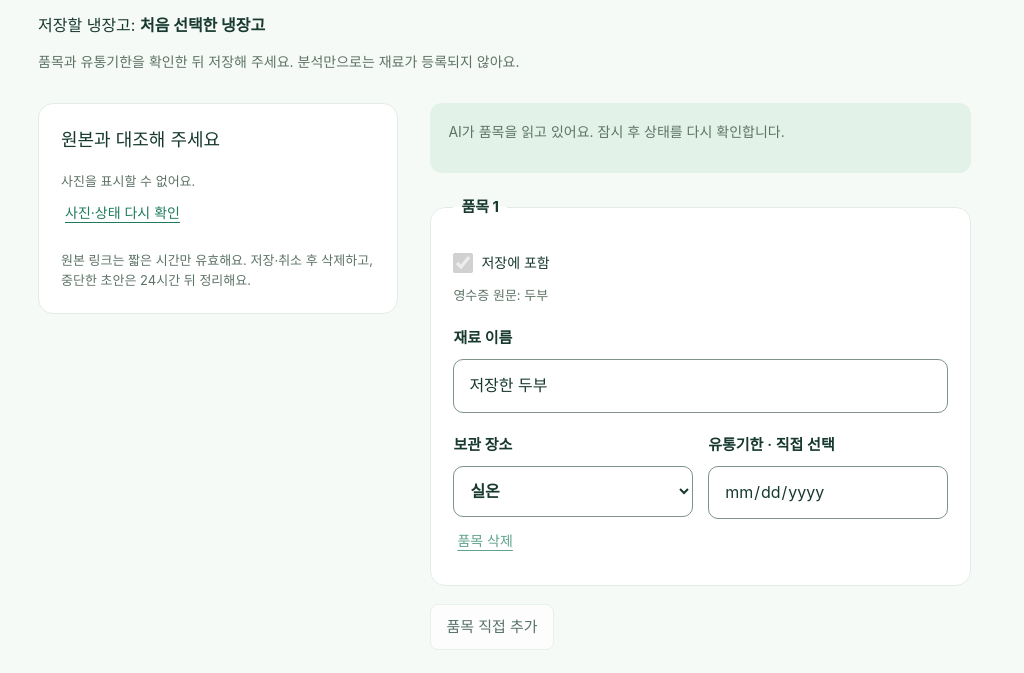
Test: recovered_analysis_enables_retry_and_manual_editing_without_losing_review_rows
The width and height of the screenshot is (1024, 673).
Expected: the button "품목 직접 추가" is disabled, 430,604 -> 554,650
Click the button "사진·상태 다시 확인" at (122, 214), box 61,192 -> 184,236
(page scrolled)
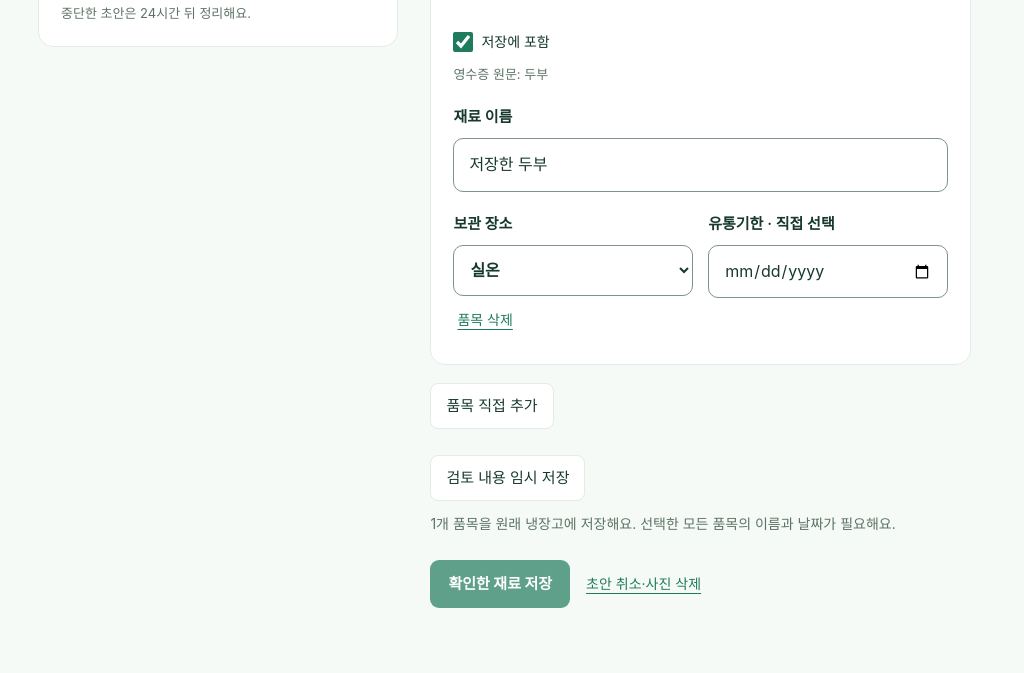
Expected: the field named "재료 이름 1" is enabled, 453,138 -> 948,192
Result: the button "품목 직접 추가" is enabled at 430,383 -> 554,429
